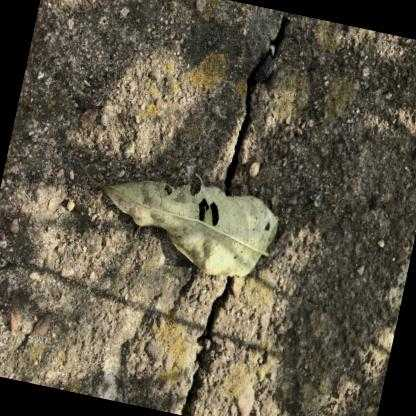crack: (222, 11, 289, 196), (178, 270, 236, 416)
